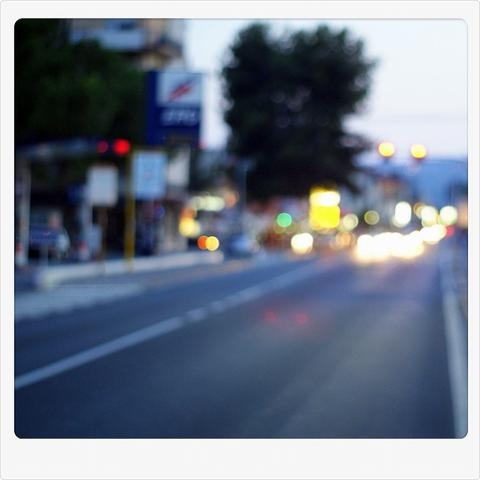car: (22, 217, 69, 265)
